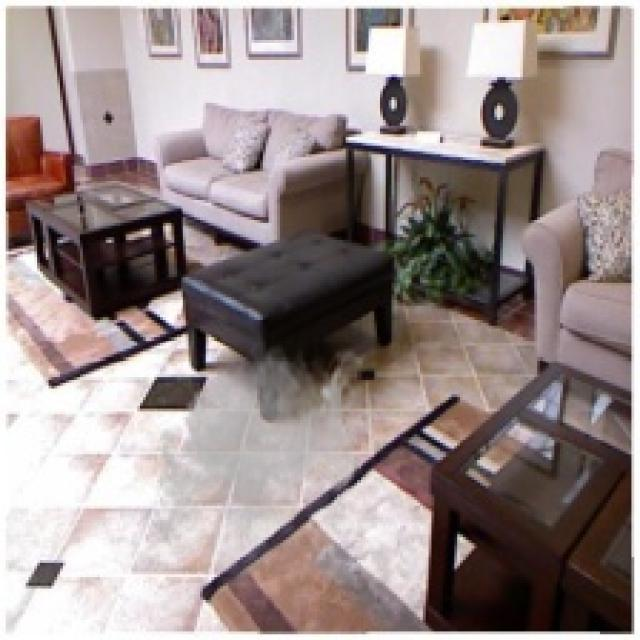Smoke: (146, 343, 363, 574)
